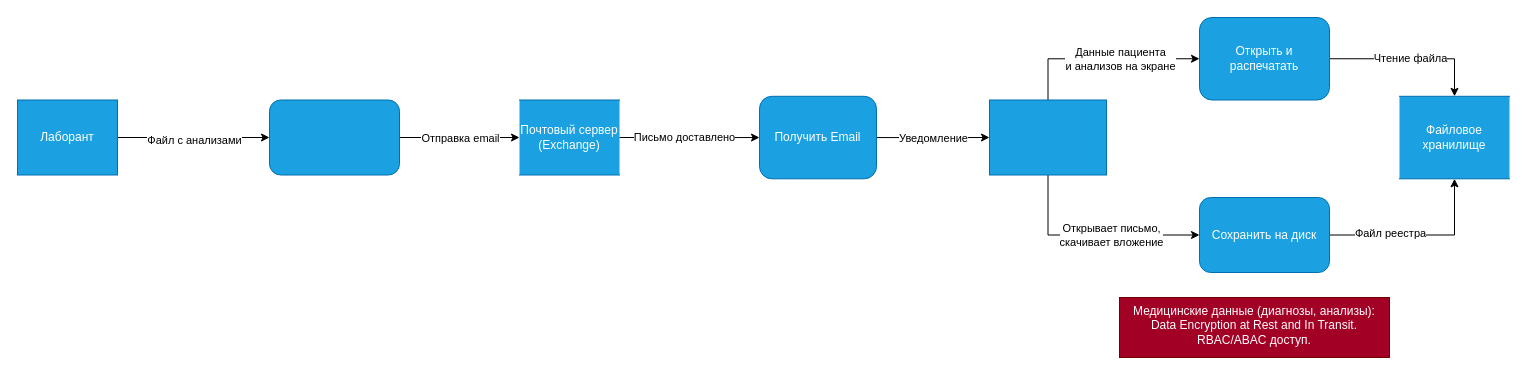
The diagram is 1527 pixels wide and 380 high, and some of its shapes have lost their labels. Each missing label, with the centre of its shape:
"Медицинский специалист" goes at pixel 1047 137.
"Отправить результаты" goes at pixel 334 137.
